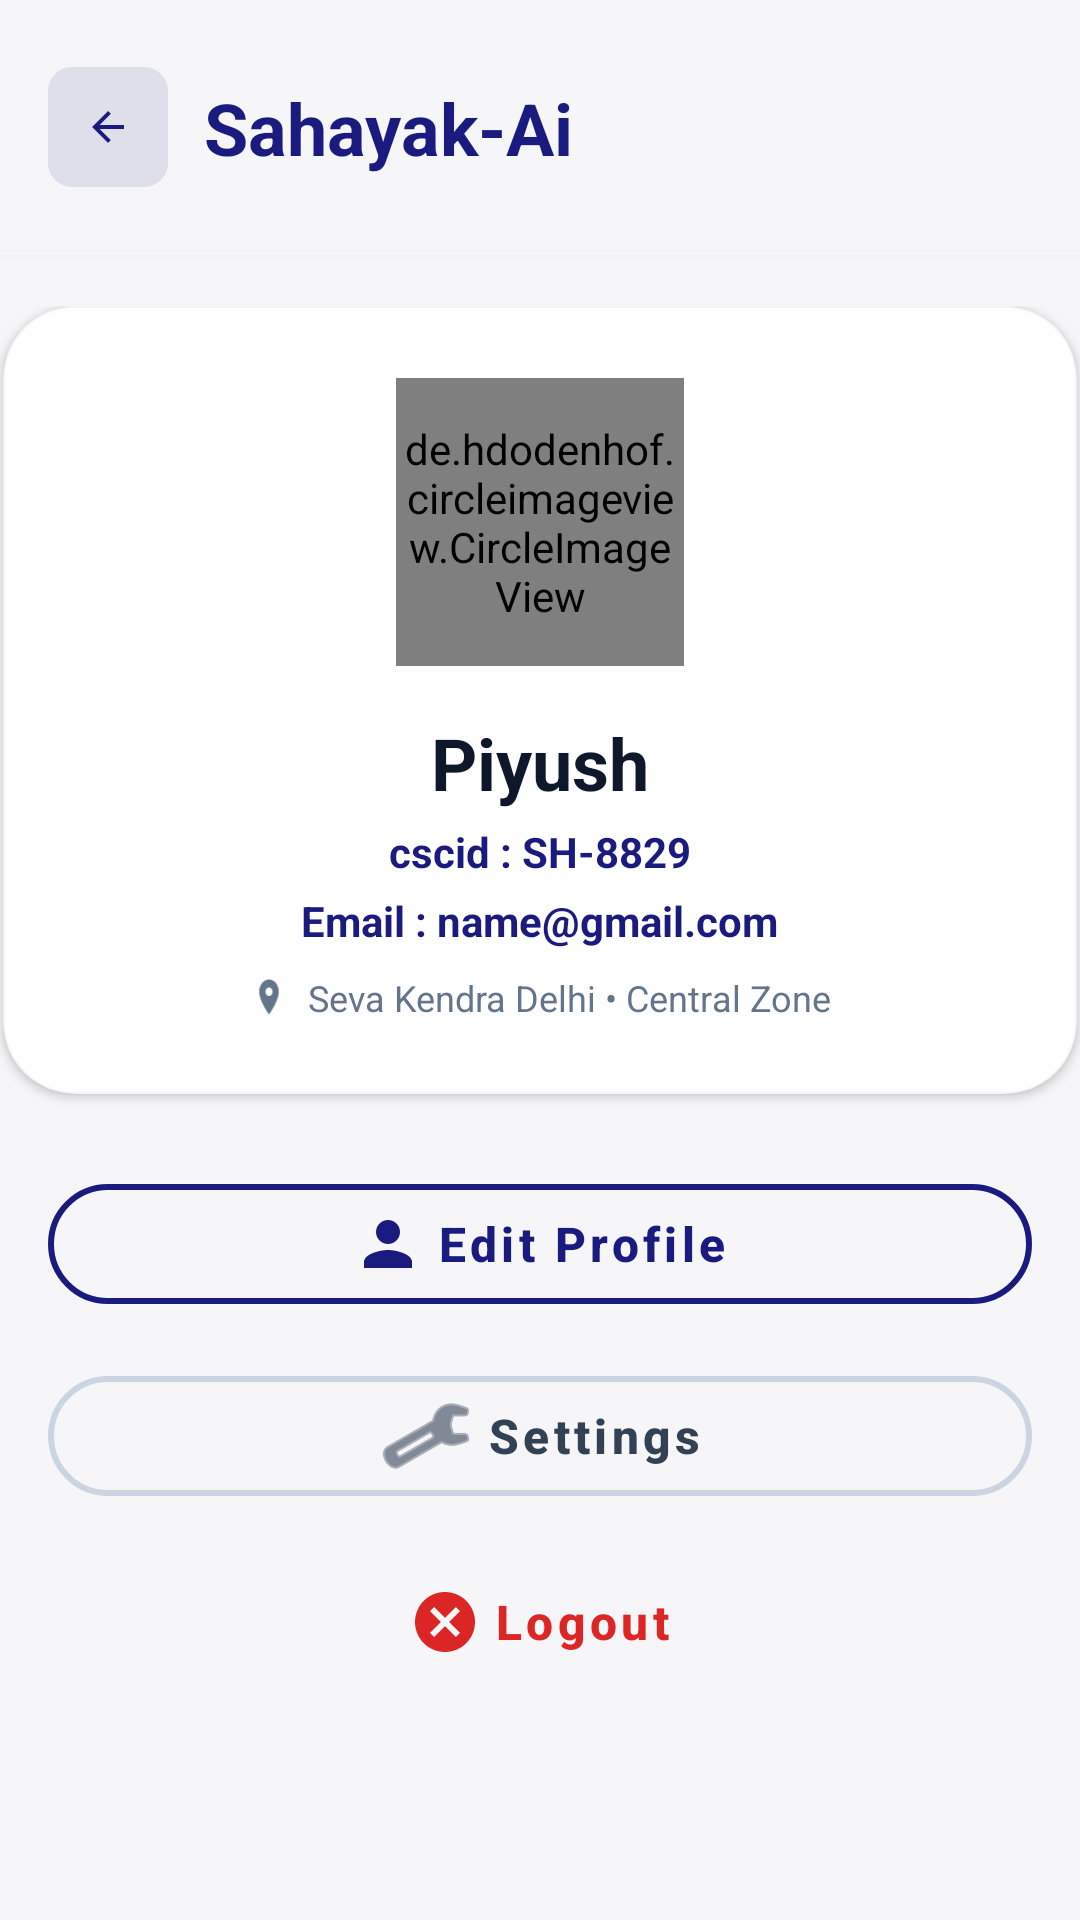

Named icons in this screenshot (1080px×1920px) and their centers, [x,y]:
Back: [108,127]
Location: [269,996]
